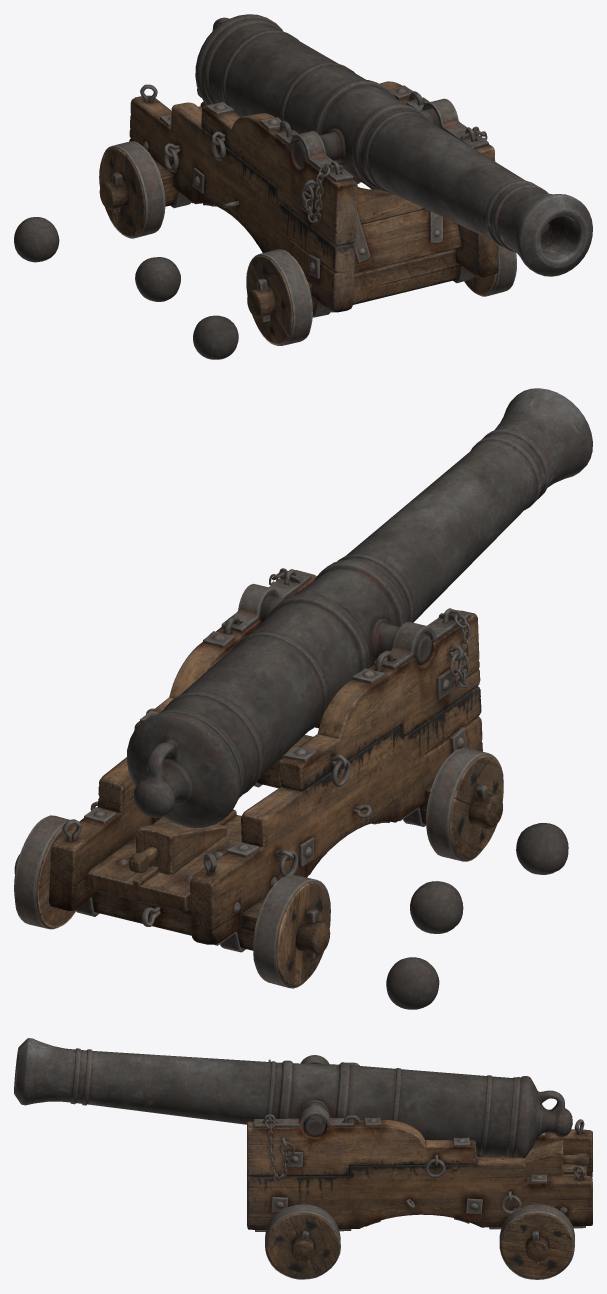
Rendered from cannon_01_1k.gltf.
The picture shows the model from 3 angles, top to bottom: view 1: azimuth 30°, elevation 25°; view 2: azimuth 150°, elevation 25°; view 3: azimuth 270°, elevation 25°; orthographic projection. The views are drawn at different scales.
Parts seen in each view (by area): view 1: cannon_01_frame, cannon_01_barrel, cannon_01_wheel_02, cannon_01_wheel_01, cannon_01_ball_02, cannon_01_ball_03, cannon_01_ball_01, cannon_01_wheel_03; view 2: cannon_01_frame, cannon_01_barrel, cannon_01_wheel_01, cannon_01_wheel_02, cannon_01_wheel_04, cannon_01_pusherblock, cannon_01_ball_02, cannon_01_ball_03, cannon_01_ball_01; view 3: cannon_01_barrel, cannon_01_frame, cannon_01_wheel_04, cannon_01_wheel_03, cannon_01_pusherblock.
Part boxes in pixels (x1=…): cannon_01_frame: x1=99, y1=81, x2=499, y2=322; cannon_01_barrel: x1=195, y1=14, x2=592, y2=276; cannon_01_wheel_02: x1=99, y1=141, x2=165, y2=238; cannon_01_wheel_01: x1=246, y1=249, x2=312, y2=345; cannon_01_ball_02: x1=135, y1=257, x2=180, y2=301; cannon_01_ball_03: x1=14, y1=217, x2=59, y2=262; cannon_01_ball_01: x1=193, y1=315, x2=238, y2=359; cannon_01_wheel_03: x1=464, y1=245, x2=516, y2=296; cannon_01_frame: x1=14, y1=568, x2=502, y2=958; cannon_01_barrel: x1=126, y1=388, x2=592, y2=828; cannon_01_wheel_01: x1=426, y1=748, x2=503, y2=861; cannon_01_wheel_02: x1=253, y1=874, x2=330, y2=988; cannon_01_wheel_04: x1=14, y1=815, x2=75, y2=929; cannon_01_pusherblock: x1=128, y1=821, x2=227, y2=874; cannon_01_ball_02: x1=410, y1=881, x2=463, y2=933; cannon_01_ball_03: x1=386, y1=957, x2=439, y2=1009; cannon_01_ball_01: x1=516, y1=823, x2=568, y2=874; cannon_01_barrel: x1=14, y1=1038, x2=572, y2=1158; cannon_01_frame: x1=247, y1=1055, x2=592, y2=1264; cannon_01_wheel_04: x1=499, y1=1204, x2=574, y2=1279; cannon_01_wheel_03: x1=265, y1=1204, x2=340, y2=1279; cannon_01_pusherblock: x1=500, y1=1140, x2=588, y2=1176.
Size of the model in its own units: 1.28 by 0.8588 by 2.3.
1 material, 1 textured.
